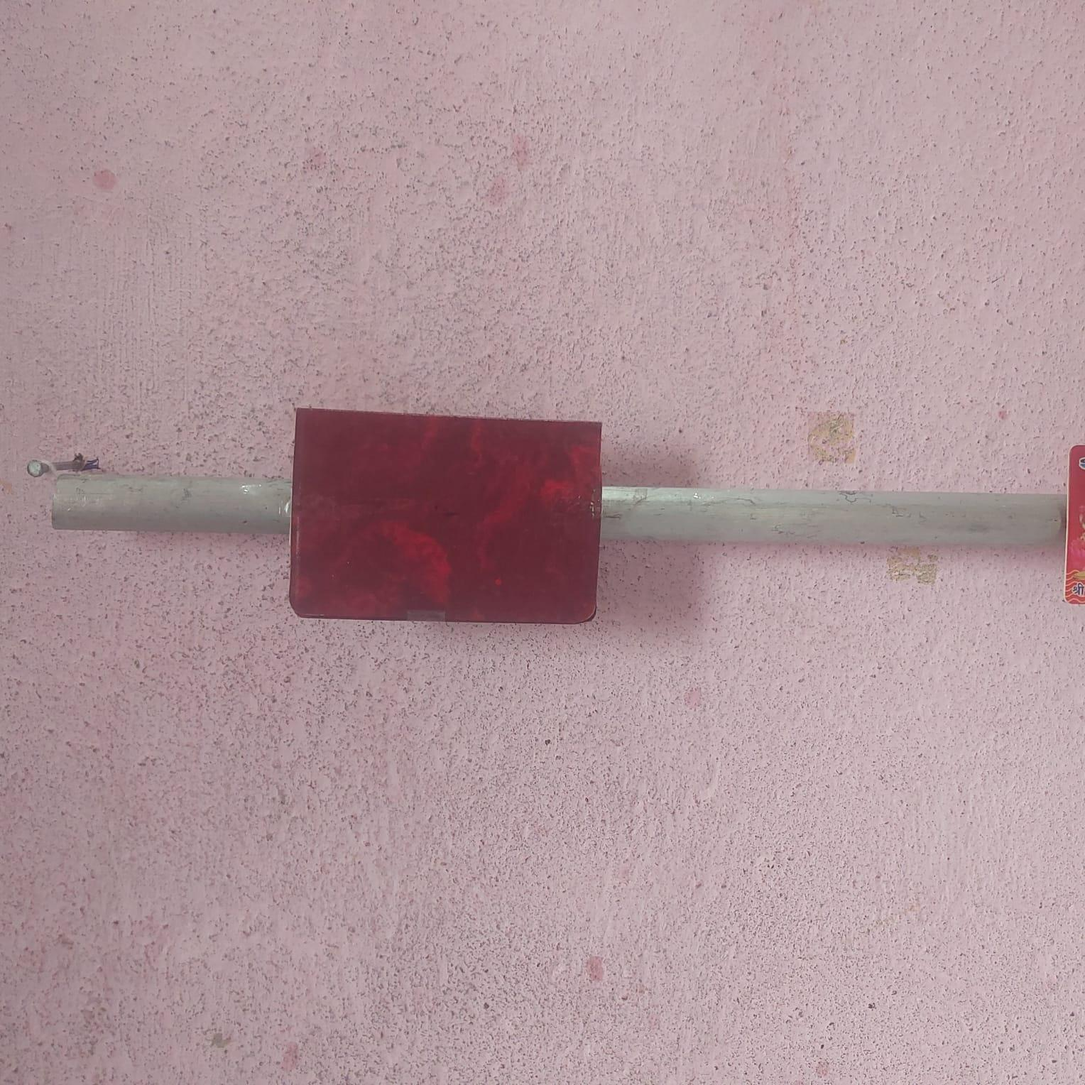wallet: (286, 403, 599, 623)
